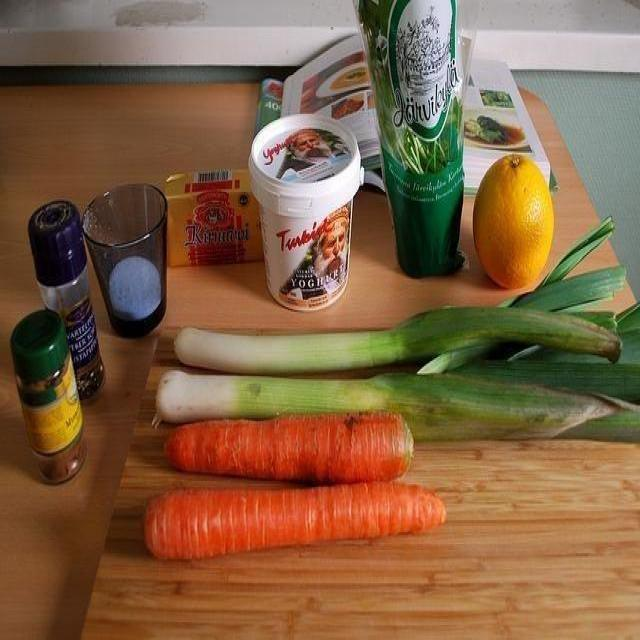glass-normal: (81, 177, 169, 334)
